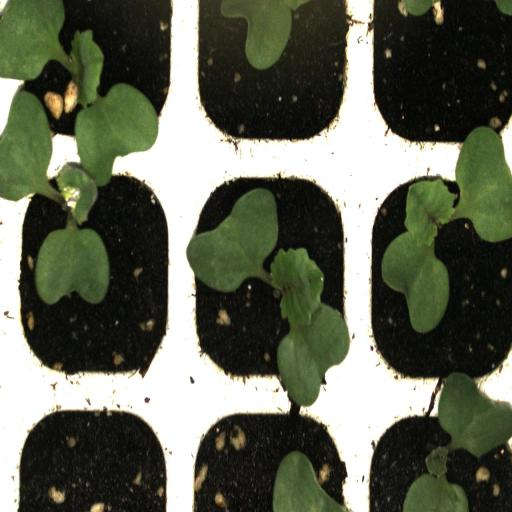Folha: (221, 0, 312, 71), (272, 450, 347, 512)
Germinacao: (0, 156, 185, 395), (182, 162, 358, 398), (359, 162, 512, 396), (0, 0, 183, 160), (359, 396, 512, 512)
